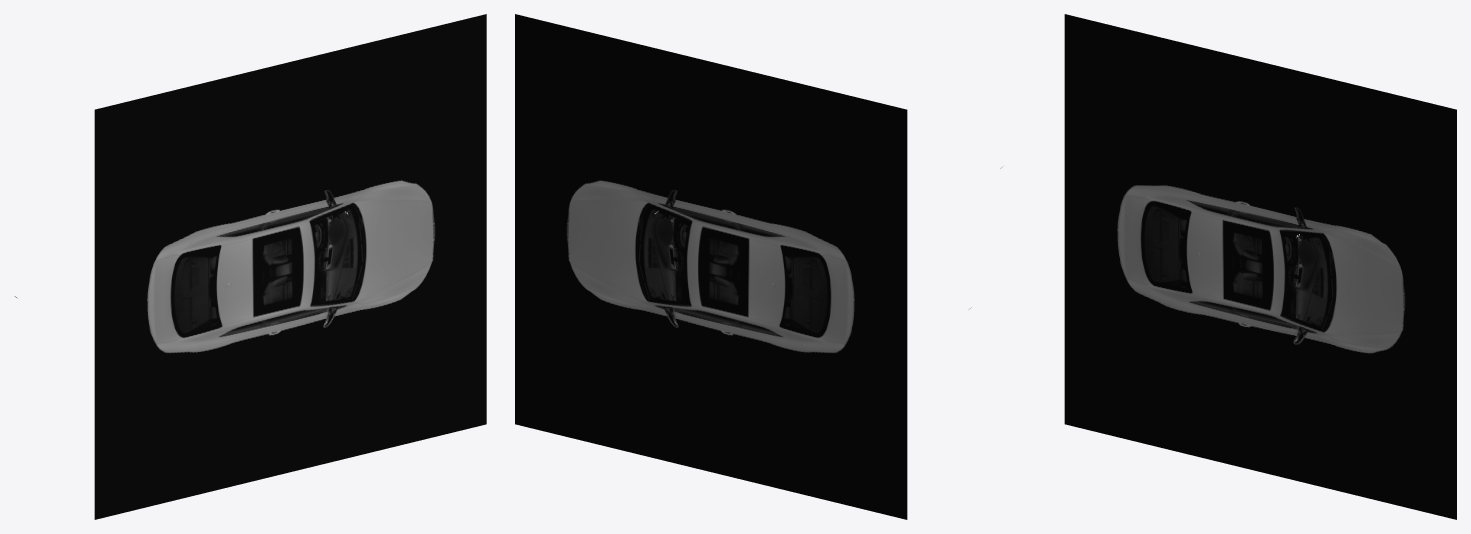
Rendered from defaultCar.glb.
3 renders of one model, left to right at view 1: azimuth 30°, elevation 25°; view 2: azimuth 150°, elevation 25°; view 3: azimuth 330°, elevation 25°, orthographic.
Visible parts, largest first — view 1: qm::VehicleProjection; view 2: qm::VehicleProjection; view 3: qm::VehicleProjection.
Boxes of the visible parts, x1,y1,x2,y2 form: qm::VehicleProjection: [94, 14, 486, 519]; qm::VehicleProjection: [515, 14, 907, 519]; qm::VehicleProjection: [1064, 14, 1456, 519].
Size of the model in its own units: 7.08 by 6 by 0.5543.
3 materials, 1 textured.
